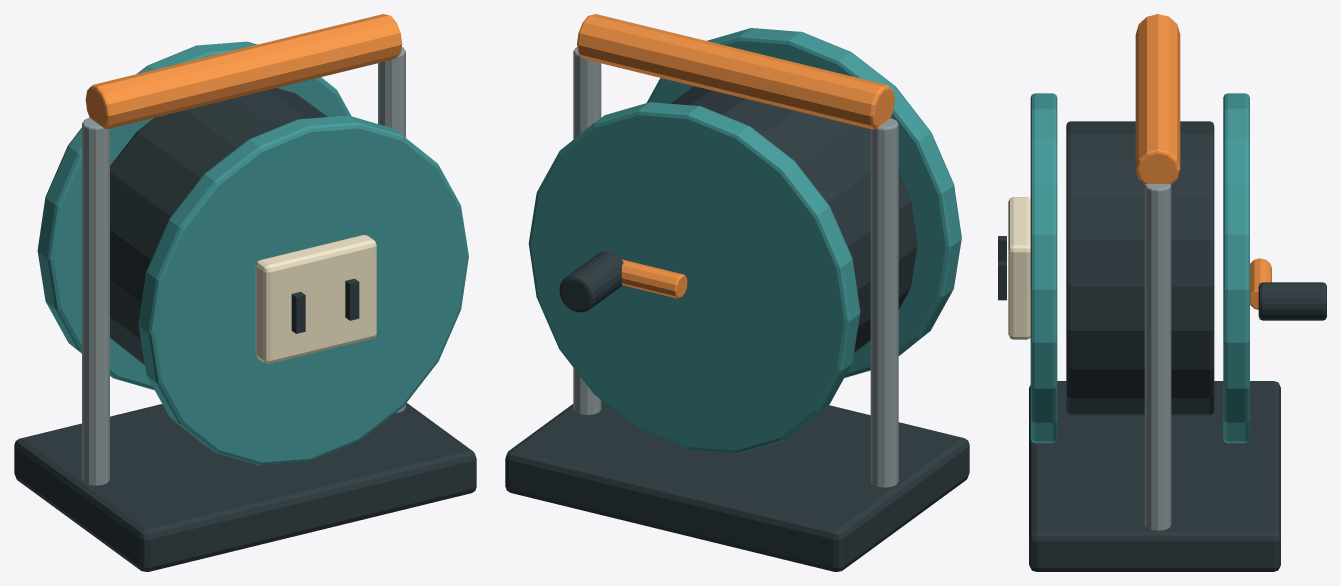
Rendered from P066_extension_reel.glb.
3 views of the same model, side by side, from view 1: azimuth 30°, elevation 25°; view 2: azimuth 150°, elevation 25°; view 3: azimuth 270°, elevation 25° (orthographic). The views are drawn at different scales.
Parts seen in each view (by area): view 1: P066_disc_002, P066_foot_012, P066_drum_001, P066_carry_011, P066_outlet_006, P066_disc_004, P066_frame_009, P066_frame_010, P066_socket_007, P066_socket_008; view 2: P066_disc_004, P066_foot_012, P066_disc_002, P066_carry_011, P066_drum_001, P066_frame_009, P066_frame_010, P066_crank_grip_014, P066_crank_013; view 3: P066_foot_012, P066_drum_001, P066_disc_002, P066_frame_010, P066_disc_004, P066_carry_011, P066_outlet_006, P066_crank_grip_014, P066_crank_013.
Part boxes in pixels (box(x1,y1,x2,y2)): P066_disc_002: box(138, 115, 468, 465); P066_foot_012: box(14, 403, 476, 571); P066_drum_001: box(81, 88, 327, 364); P066_carry_011: box(85, 14, 402, 128); P066_outlet_006: box(255, 235, 376, 363); P066_disc_004: box(37, 41, 351, 390); P066_frame_009: box(82, 117, 109, 485); P066_frame_010: box(378, 47, 405, 412); P066_socket_007: box(291, 291, 305, 333); P066_socket_008: box(345, 278, 359, 320); P066_disc_004: box(528, 102, 860, 453); P066_foot_012: box(505, 400, 969, 571); P066_disc_002: box(646, 28, 961, 377); P066_carry_011: box(577, 14, 894, 129); P066_drum_001: box(671, 86, 917, 352); P066_frame_009: box(870, 118, 898, 487); P066_frame_010: box(573, 47, 601, 414); P066_crank_grip_014: box(559, 251, 623, 312); P066_crank_013: box(621, 259, 687, 298); P066_foot_012: box(1029, 381, 1280, 571); P066_drum_001: box(1066, 121, 1214, 415); P066_disc_002: box(1030, 93, 1057, 443); P066_frame_010: box(1144, 184, 1171, 530); P066_disc_004: box(1223, 93, 1249, 443); P066_carry_011: box(1135, 14, 1180, 184); P066_outlet_006: box(1008, 197, 1030, 339); P066_crank_grip_014: box(1258, 282, 1326, 320); P066_crank_013: box(1250, 258, 1271, 309).
Size of the model in its own units: 0.25 by 0.309 by 0.222.
